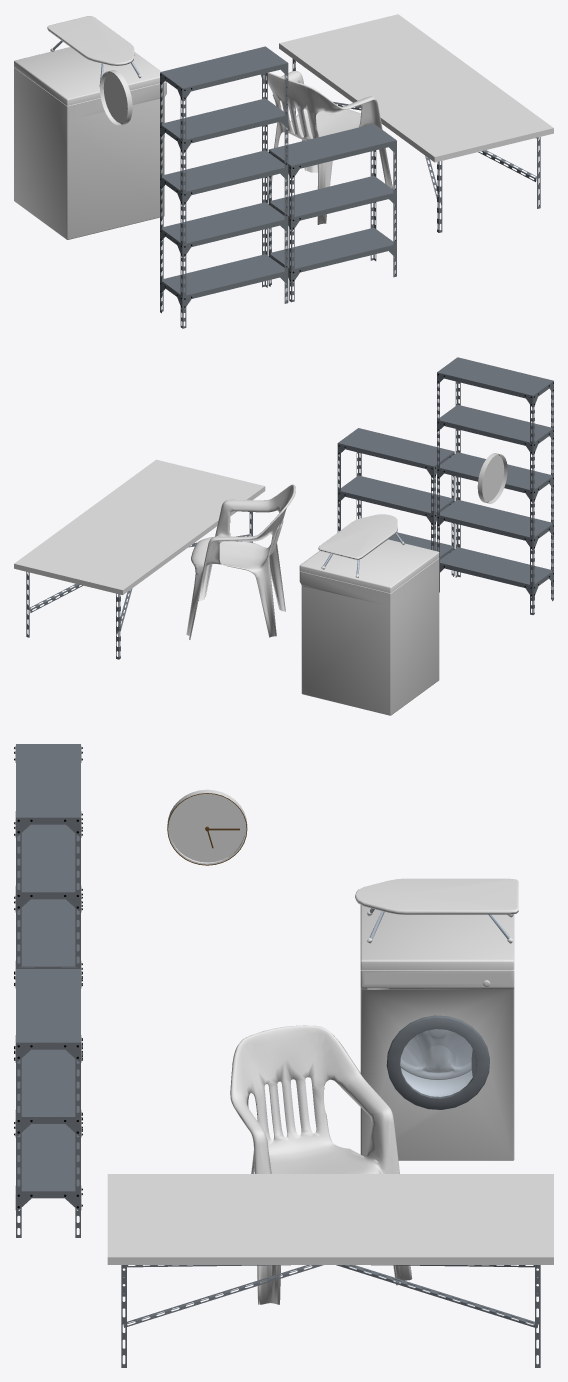
Rendered from space_sarubia _object.fbx.
3 views of the same model, one above another, from view 1: azimuth 30°, elevation 25°; view 2: azimuth 150°, elevation 25°; view 3: azimuth 270°, elevation 25° (orthographic). The views are drawn at different scales.
Visible parts, largest first — view 1: Layer0_001.005, Cube.019, Cube.015, Cube.002, tuinstoel-plastic_001, Cube.020, clock.001, Cube.007; view 2: Layer0_001.005, Cube.019, Cube.015, Cube.002, tuinstoel-plastic_001, Cube.020, clock.001, Cube.007; view 3: Cube.019, Layer0_001.005, tuinstoel-plastic_001, Cube.002, Cube.015, Cube.020, clock.001, inside.001, Cube.007, Layer0_001.003, Layer0_001.004.
Boxes of the visible parts, x1,y1,x2,y2 form: Layer0_001.005: [14, 47, 166, 239]; Cube.019: [279, 14, 553, 162]; Cube.015: [160, 46, 288, 328]; Cube.002: [268, 124, 396, 302]; tuinstoel-plastic_001: [261, 71, 392, 224]; Cube.020: [47, 16, 141, 87]; clock.001: [100, 70, 132, 125]; Cube.007: [292, 59, 540, 232]; Layer0_001.005: [299, 539, 439, 715]; Cube.019: [14, 459, 265, 594]; Cube.015: [437, 357, 553, 614]; Cube.002: [337, 428, 454, 576]; tuinstoel-plastic_001: [186, 484, 295, 639]; Cube.020: [318, 514, 404, 578]; clock.001: [477, 453, 507, 503]; Cube.007: [26, 512, 252, 659]; Cube.019: [107, 1174, 553, 1264]; Layer0_001.005: [360, 905, 514, 1160]; tuinstoel-plastic_001: [230, 1025, 412, 1304]; Cube.002: [15, 969, 81, 1237]; Cube.015: [15, 744, 81, 1110]; Cube.020: [355, 878, 518, 943]; clock.001: [167, 789, 247, 864]; inside.001: [400, 1029, 472, 1096]; Cube.007: [121, 1265, 540, 1367]; Layer0_001.003: [386, 1015, 489, 1109]; Layer0_001.004: [401, 1029, 472, 1096].
Bounding box in the file's own units: 339 × 197 × 273.
